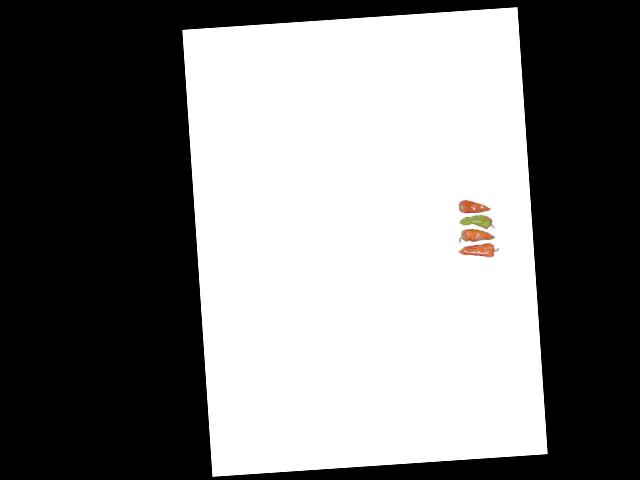bell_pepper: (457, 194, 493, 215)
